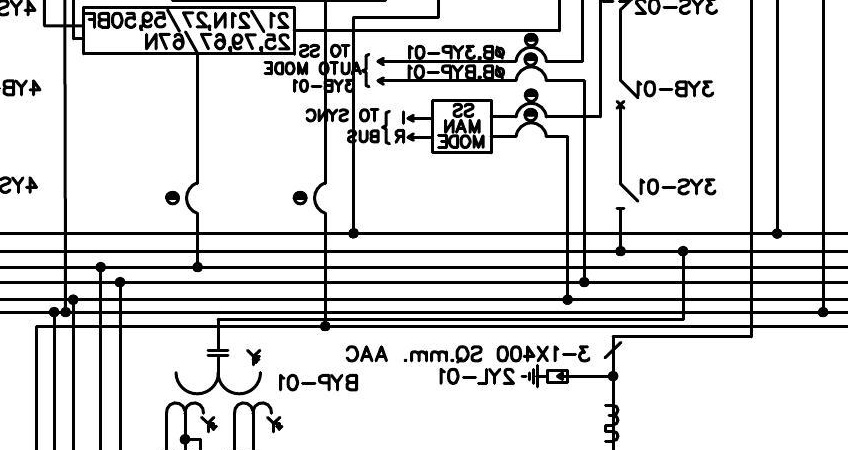115_breaker: (615, 79, 640, 110)
115_cvt_3p: (164, 349, 284, 434)
115_ds: (614, 182, 640, 210)
115_la: (520, 363, 569, 389)
ss_man_mode: (431, 98, 494, 155)
